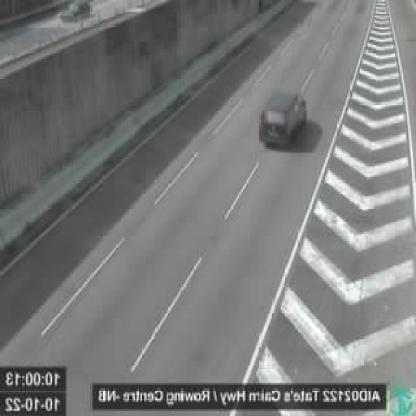Car: (258, 89, 308, 146)
